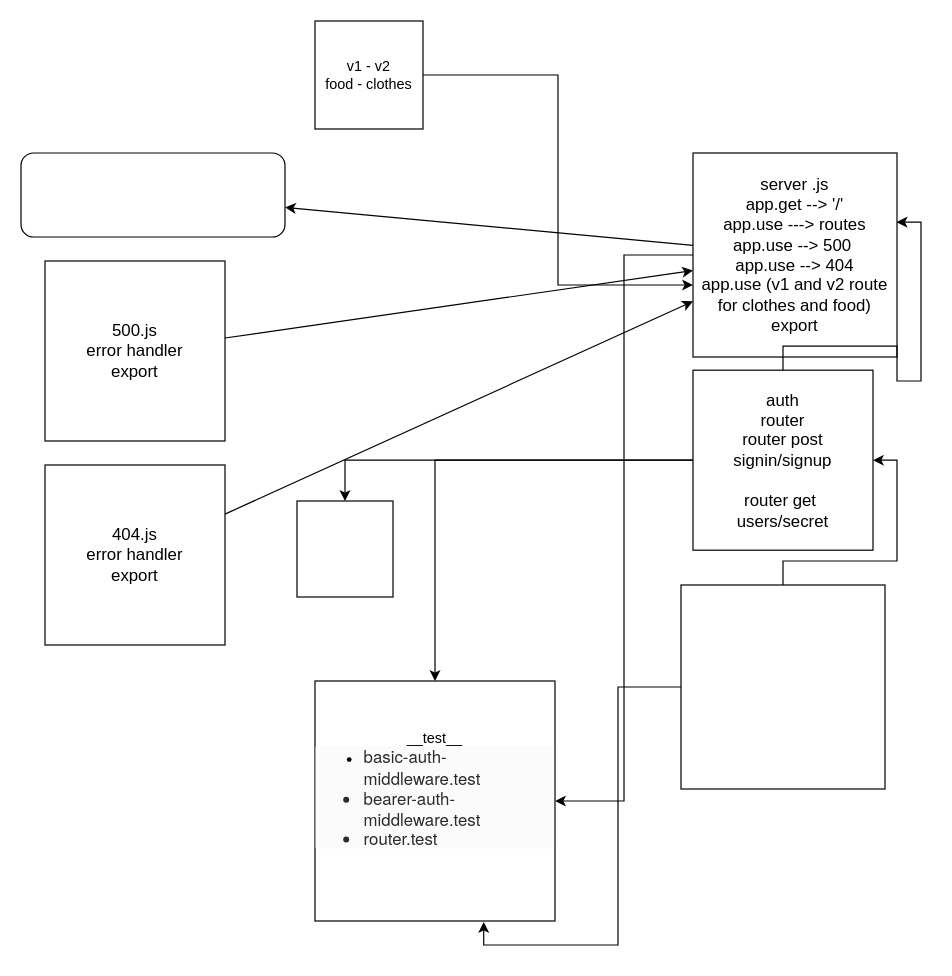
Some shapes in this 952 by 976 pixel diagram are drawn without their labels. Each missing label, with the box of its shape:
basic and bearer auth middlewear: (680, 584, 885, 789)
database save new user /signin get the user from data base: (296, 500, 393, 597)
index.js to start the server npm start/nodemon: (20, 152, 285, 237)
